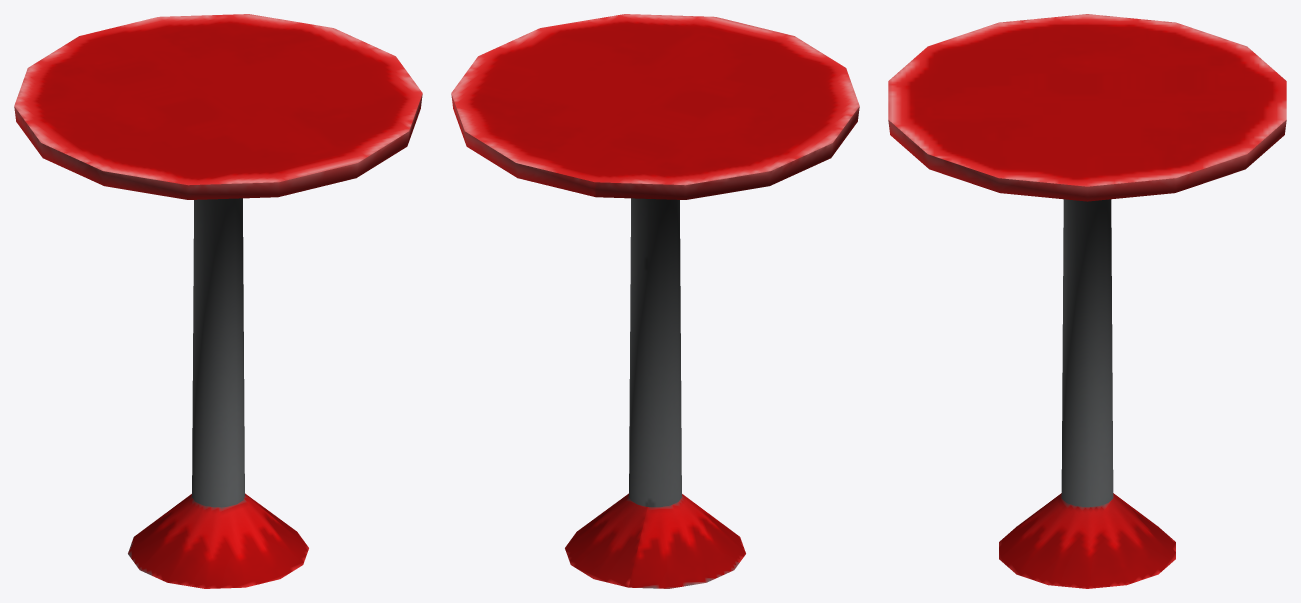
The model's file is RE_RKitchenChair.FBX.
3 views of the same model, side by side, from view 1: azimuth 30°, elevation 25°; view 2: azimuth 150°, elevation 25°; view 3: azimuth 270°, elevation 25° (orthographic).
Parts seen in each view (by area): view 1: RE_RKitchenChair; view 2: RE_RKitchenChair; view 3: RE_RKitchenChair.
Part boxes in pixels (x1,y1,x2,y2): RE_RKitchenChair: (14, 14, 422, 588); RE_RKitchenChair: (451, 14, 859, 588); RE_RKitchenChair: (888, 14, 1286, 588).
Size of the model in its own units: 25.98 by 31.58 by 25.33.
2 materials, 2 textured.
